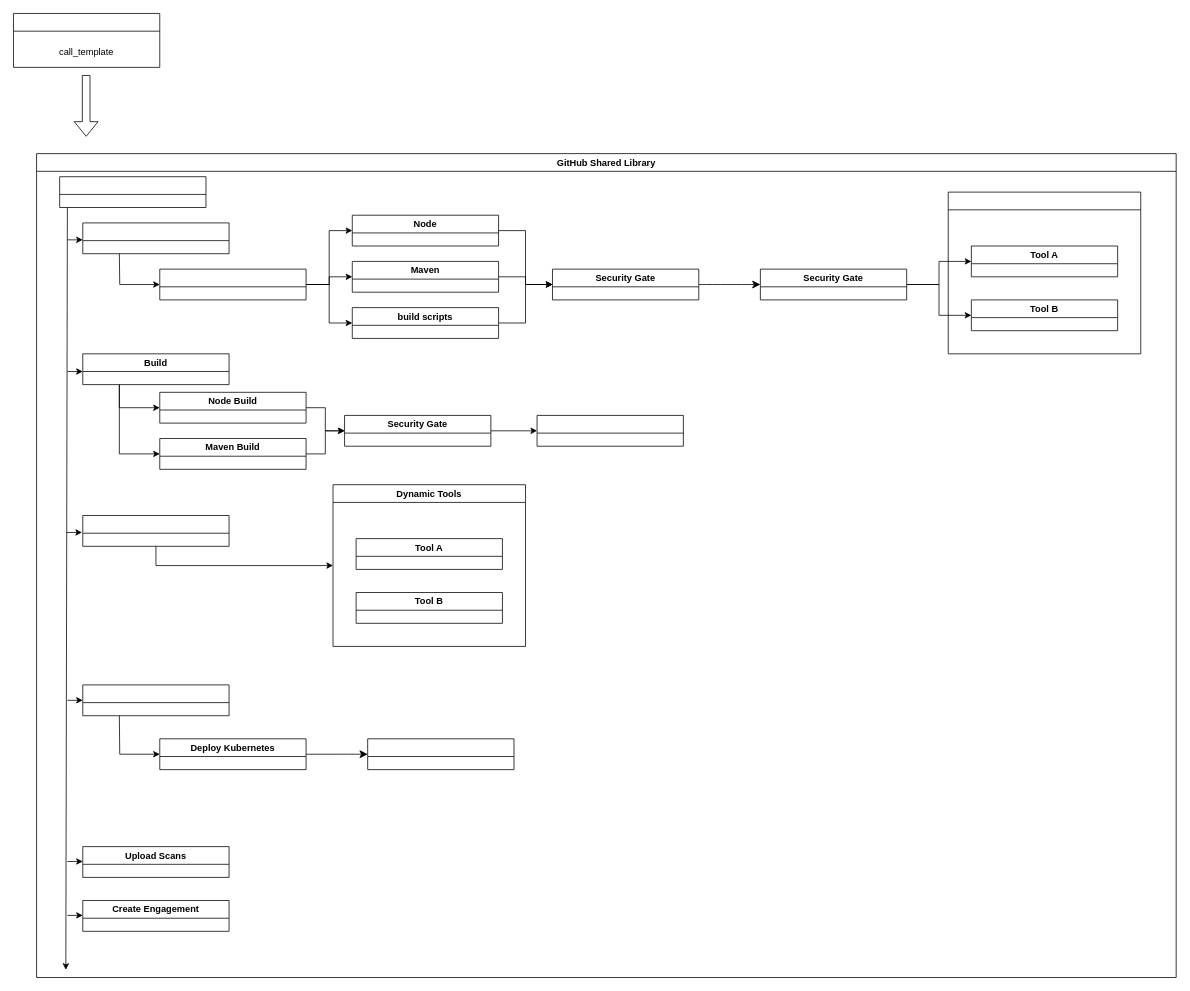
This 1190x991 diagram has some shape labels left out. Each missing label, with the box of its shape:
Cliente Repository: (13, 13, 160, 67)
Deploy: (82, 684, 229, 716)
Docker Build: (536, 415, 683, 446)
load variables: (159, 268, 306, 300)
Main: (59, 176, 206, 208)
Port Forward: (367, 738, 514, 770)
Preflight: (82, 222, 229, 254)
Static Tools: (947, 191, 1141, 354)
Test: (82, 515, 229, 546)
